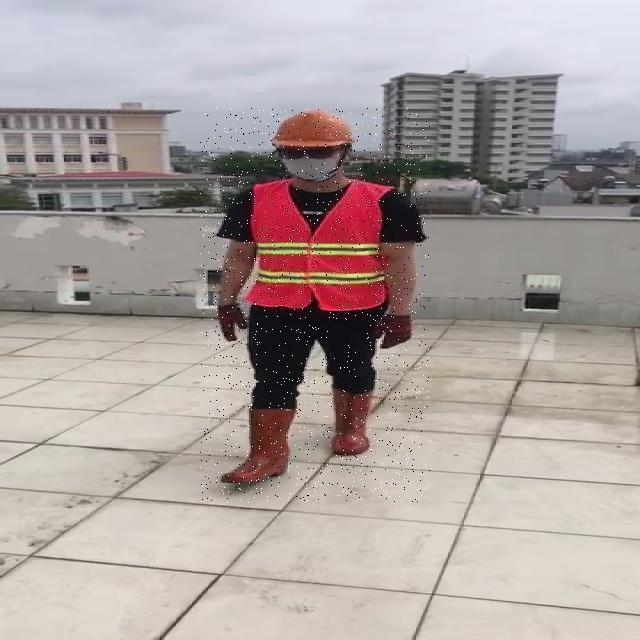gloves: (372, 314, 410, 350), (215, 304, 247, 343)
goggles: (270, 148, 350, 160)
helmet: (263, 108, 362, 154)
safety_vest: (247, 182, 388, 310)
